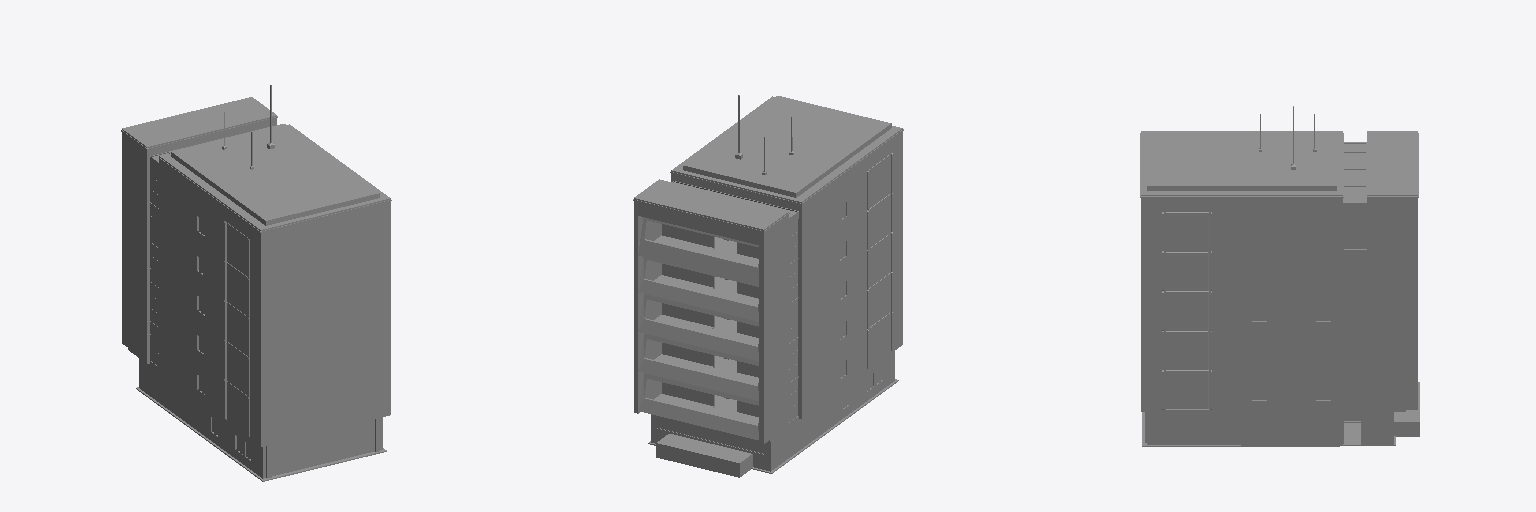
File: ResidentialBuildings003.obj
3 renders of one model, left to right at view 1: azimuth 30°, elevation 25°; view 2: azimuth 150°, elevation 25°; view 3: azimuth 270°, elevation 25°, orthographic.
Parts seen in each view (by area): view 1: Residential_Buildings_003_Cube.011; view 2: Residential_Buildings_003_Cube.011; view 3: Residential_Buildings_003_Cube.011.
Boxes of the visible parts, box(x1,y1,x2,y2) form: Residential_Buildings_003_Cube.011: box(121, 85, 391, 481); Residential_Buildings_003_Cube.011: box(633, 95, 903, 477); Residential_Buildings_003_Cube.011: box(1140, 106, 1419, 446).
Bounding box in the file's own units: 12.59 × 29.19 × 23.1.